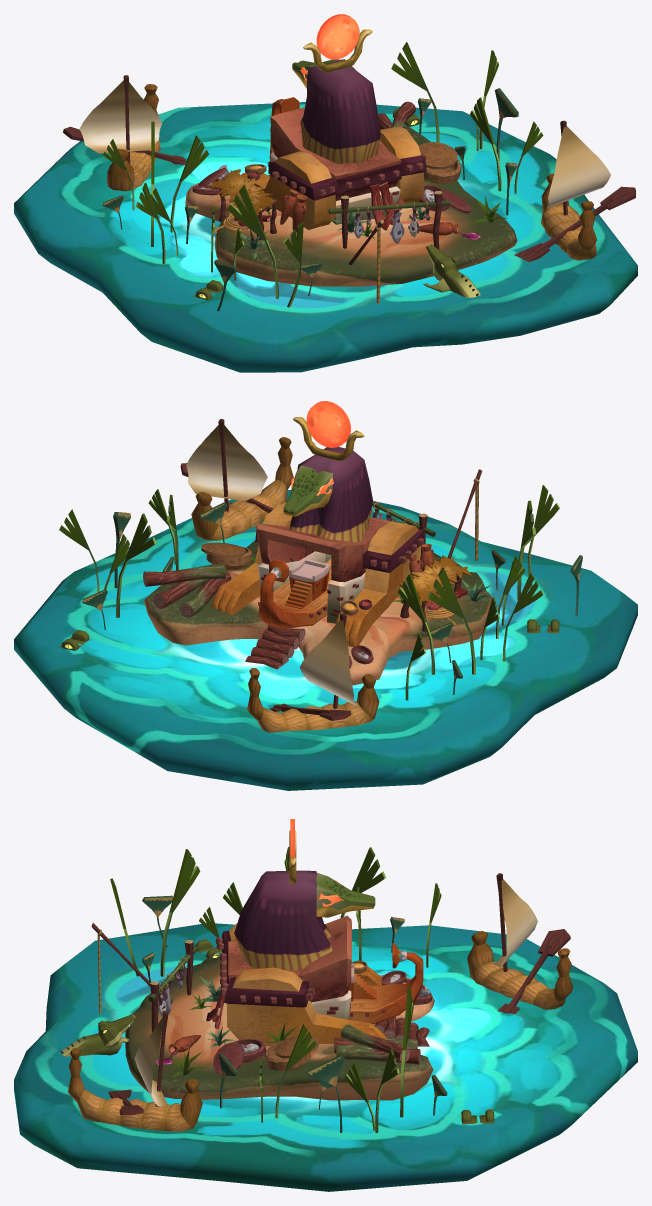
The model's file is island.glb.
3 views of the same model, one above another, from view 1: azimuth 30°, elevation 25°; view 2: azimuth 150°, elevation 25°; view 3: azimuth 270°, elevation 25° (orthographic). The views are drawn at different scales.
Parts seen in each view (by area): view 1: polySurface227, polySurface989, polySurface1062, polySurface615, polySurface1065; view 2: polySurface227, polySurface989, polySurface615, polySurface1065, polySurface1062; view 3: polySurface227, polySurface989, polySurface615, polySurface1062, polySurface1065.
Boxes of the visible parts, left/top/right/bottom form: polySurface227: left=14, top=42, right=637, bottom=372; polySurface989: left=63, top=75, right=635, bottom=303; polySurface1062: left=200, top=14, right=480, bottom=239; polySurface615: left=240, top=107, right=426, bottom=229; polySurface1065: left=217, top=97, right=471, bottom=243; polySurface227: left=14, top=485, right=637, bottom=790; polySurface989: left=180, top=419, right=482, bottom=732; polySurface615: left=212, top=502, right=424, bottom=646; polySurface1065: left=143, top=515, right=423, bottom=669; polySurface1062: left=283, top=401, right=467, bottom=658; polySurface227: left=14, top=847, right=637, bottom=1191; polySurface989: left=68, top=873, right=572, bottom=1131; polySurface615: left=221, top=915, right=386, bottom=1046; polySurface1062: left=148, top=819, right=421, bottom=1064; polySurface1065: left=165, top=937, right=430, bottom=1075.
Size of the model in its own units: 8.63 by 4.15 by 9.28.
9 materials, 5 textured.
